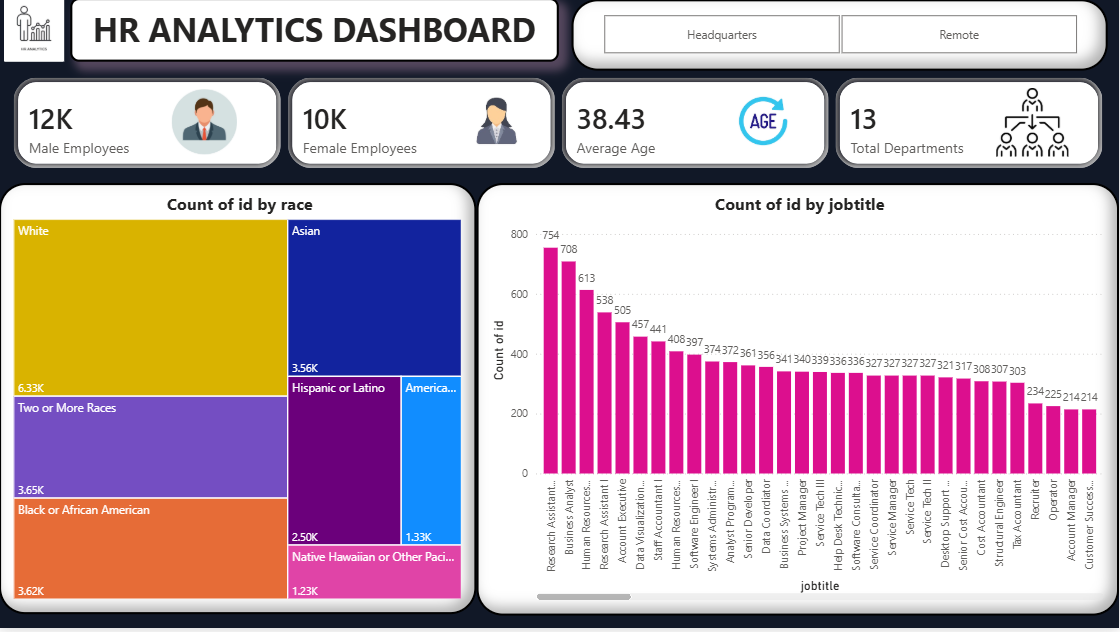

This screenshot's page, from the dashboard's own definition file:
{"tool":"powerbi","page":{"name":"WORKFORCE DEMOGRAPHICS","canvas":[1280,720],"ordinal":2},"visuals":[{"type":"textbox","box":[81.2,0,558.8,72.5],"z":0},{"type":"image","box":[5,1.2,68.8,71.2],"z":1000},{"type":"cardVisual","fields":{"Data":["Shoping_table_std.Male Employees","Shoping_table_std.Female Employees","Shoping_table_std.Average Age","Shoping_table_std.Total Departments"]},"box":[0,74.3,1280,137.1],"z":2000},{"type":"image","box":[167.1,104.3,135.7,74.3],"z":3000},{"type":"image","box":[497.1,101.4,142.9,82.9],"z":4000},{"type":"image","box":[801.4,101.4,144.3,78.6],"z":5000},{"type":"slicer","fields":{"Values":["Shoping_table_std.location"]},"box":[654.3,1.4,612.9,81.4],"z":7000},{"type":"image","box":[1108.6,102.9,144.3,78.6],"z":8000},{"type":"treemap","fields":{"Group":["Shoping_table_std.race"],"Values":["CountNonNull(Shoping_table_std.id)"]},"box":[0,211.4,545.7,492.9],"z":9000},{"type":"columnChart","fields":{"Category":["Shoping_table_std.jobtitle"],"Y":["CountNonNull(Shoping_table_std.id)"]},"box":[546,211,734,494],"z":9001}]}

Visuals, with their boxes in screenshot pixels (x1, y1, x2, y2), scaled from the page's 1280x720 canvas onto the 1120x632 screenshot:
textbox: [left=71, top=0, right=560, bottom=64]
image: [left=4, top=1, right=65, bottom=64]
cardVisual - Shoping_table_std.Male Employees x Shoping_table_std.Female Employees: [left=0, top=65, right=1119, bottom=186]
image: [left=146, top=92, right=265, bottom=157]
image: [left=435, top=89, right=560, bottom=162]
image: [left=701, top=89, right=827, bottom=158]
slicer - Shoping_table_std.location: [left=573, top=1, right=1109, bottom=73]
image: [left=970, top=90, right=1096, bottom=159]
treemap - Shoping_table_std.race x CountNonNull(Shoping_table_std.id): [left=0, top=186, right=477, bottom=618]
columnChart - Shoping_table_std.jobtitle x CountNonNull(Shoping_table_std.id): [left=478, top=185, right=1119, bottom=619]
